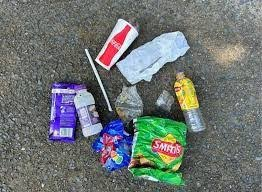plastic: (128, 116, 193, 182), (116, 29, 189, 86), (176, 70, 214, 140), (93, 17, 140, 71), (81, 45, 112, 111), (92, 121, 130, 171), (49, 78, 76, 146), (73, 82, 102, 137), (114, 84, 145, 127), (158, 88, 173, 110)
